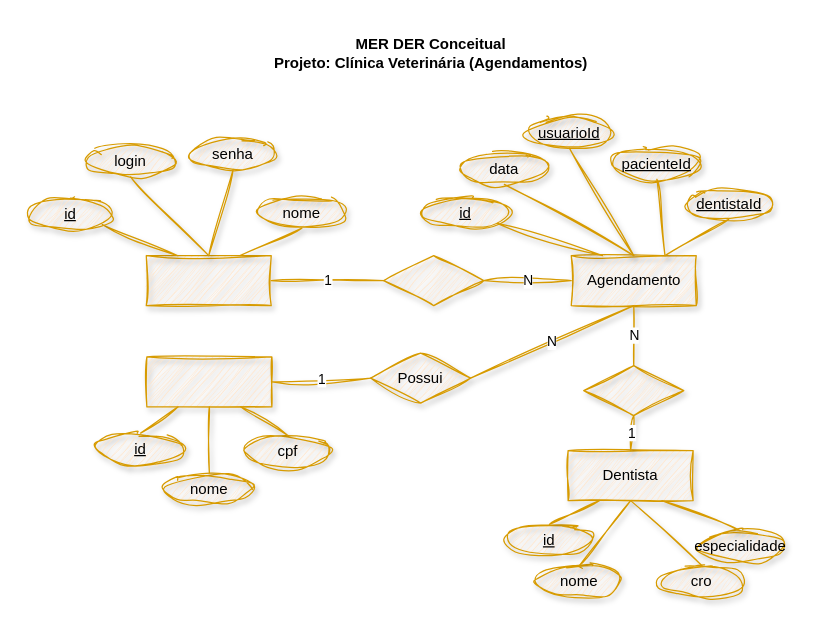
The diagram is 814 pixels wide and 628 high, and some of its shapes have lost their labels. Here are the shapes that lost their labels. From the top down, the centre of each, then its label:
At point 209,281: "Usua rio".
At point 434,281: "Registra".
At point 210,383: "Paciente".
At point 634,391: "Atende".
